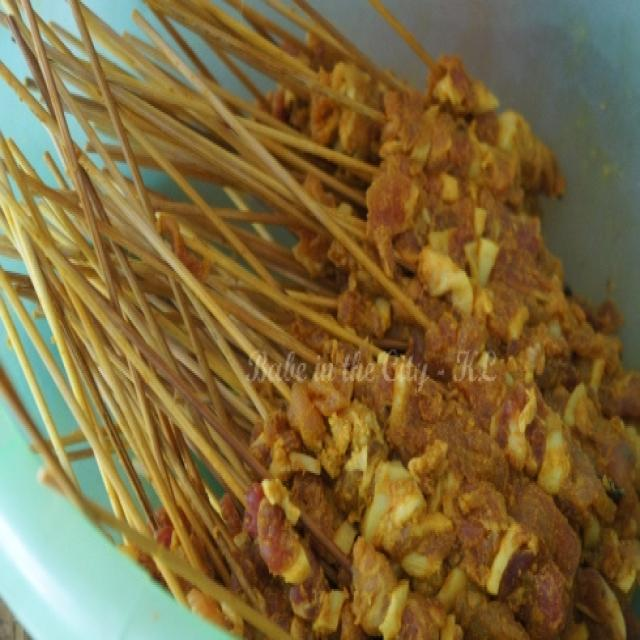牛肉菜式: (15, 26, 626, 628)
